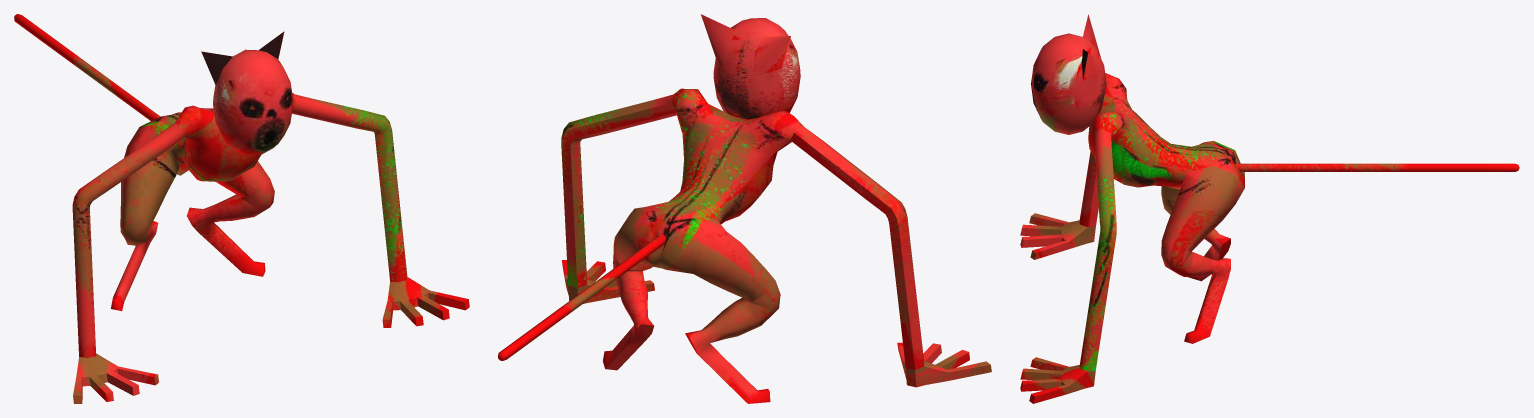
Rendered from SM_Monster_pose_2.fbx.
The picture shows the model from 3 angles, left to right: view 1: azimuth 30°, elevation 25°; view 2: azimuth 150°, elevation 25°; view 3: azimuth 270°, elevation 25°; orthographic projection. The views are drawn at different scales.
Visible parts, largest first — view 1: SM_Monster_pose_2; view 2: SM_Monster_pose_2; view 3: SM_Monster_pose_2.
Part boxes in pixels (x1,y1,x2,y2): SM_Monster_pose_2: [14, 14, 469, 403]; SM_Monster_pose_2: [498, 14, 991, 403]; SM_Monster_pose_2: [1020, 14, 1519, 403].
Bounding box in the file's own units: 370 × 262 × 426.
